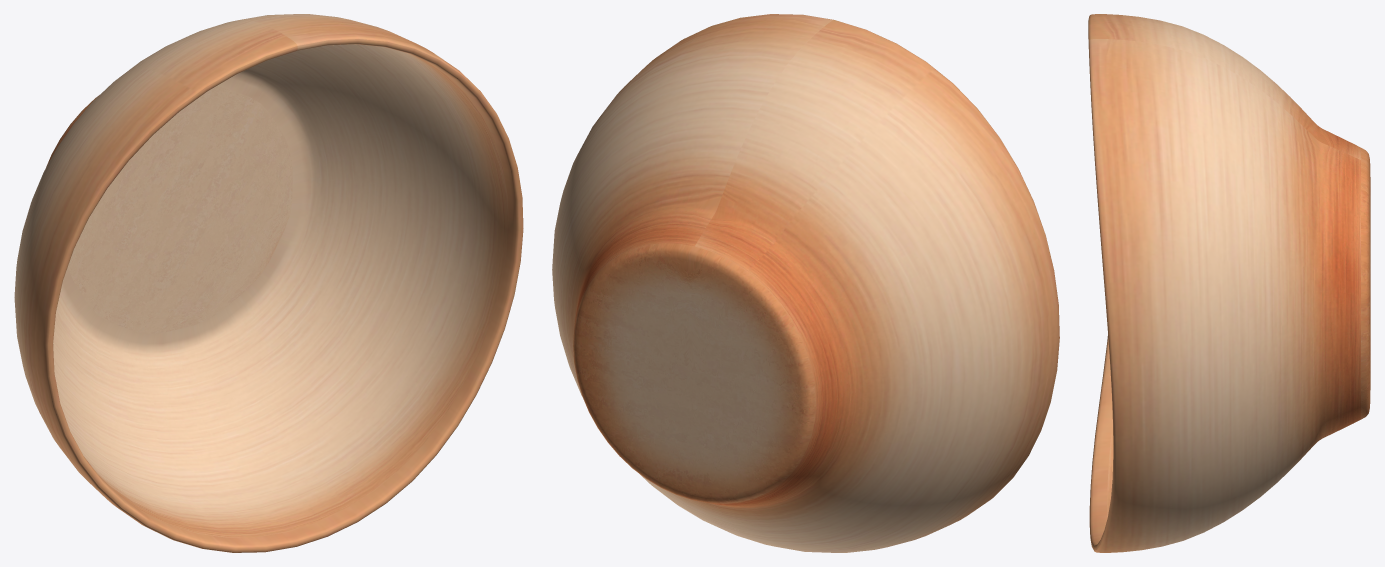
The model's file is bowl_triangle.obj.
3 renders of one model, left to right at view 1: azimuth 30°, elevation 25°; view 2: azimuth 150°, elevation 25°; view 3: azimuth 270°, elevation 25°, orthographic. The views are drawn at different scales.
Visible parts, largest first — view 1: 10315_soup_plate; view 2: 10315_soup_plate; view 3: 10315_soup_plate.
Boxes of the visible parts, x1,y1,x2,y2 form: 10315_soup_plate: [14, 14, 523, 552]; 10315_soup_plate: [552, 14, 1059, 552]; 10315_soup_plate: [1088, 14, 1370, 552].
Size of the model in its own units: 15.76 by 15.87 by 8.3.
